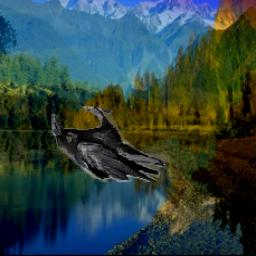Crow: (50, 106, 165, 182)
